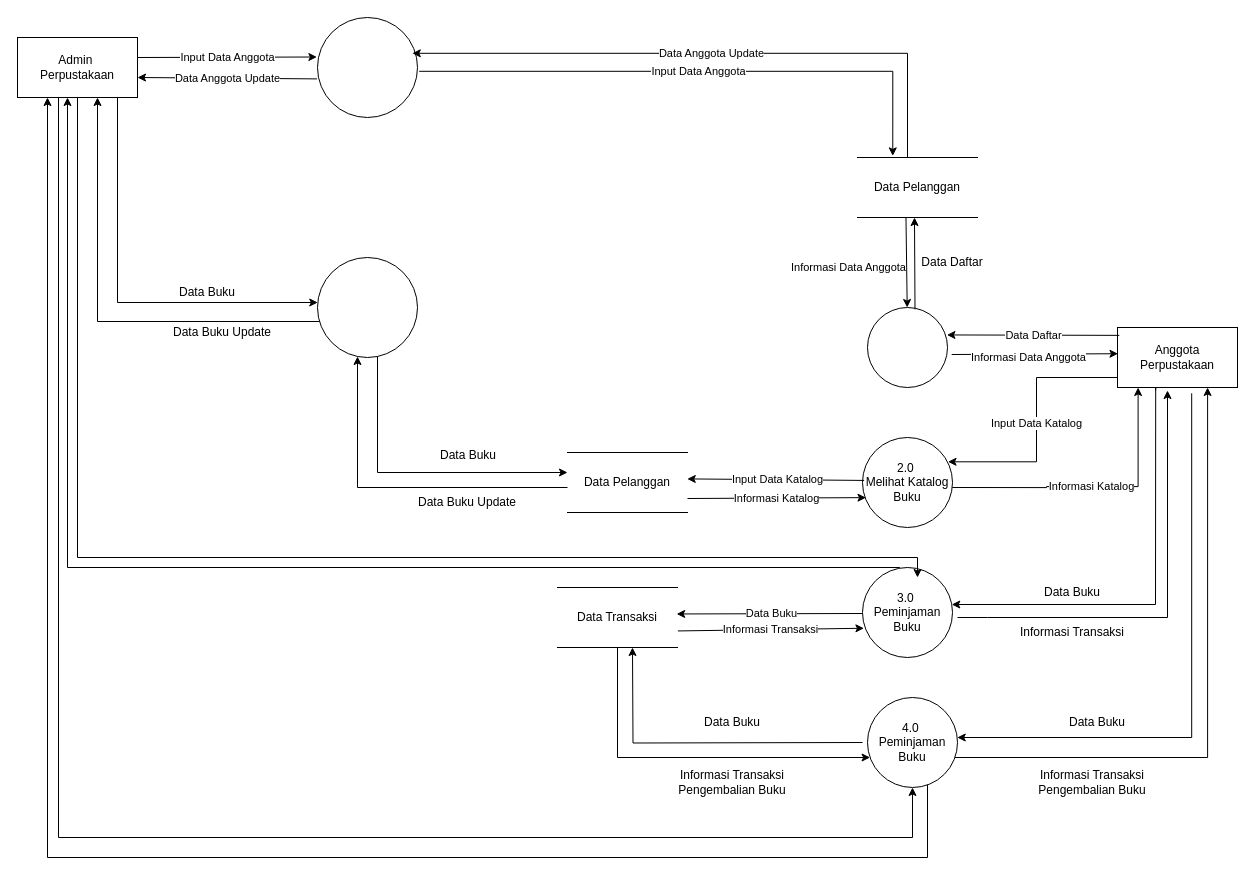
Image size: 1255x883. Some labels were removed from this diagram. The box of each missing label's shape, as (x1, y1, x2, y2) in pixels:
1.0 Daftar: (866, 306, 948, 388)
5.0 Mengelola Data Anggota: (316, 16, 418, 118)
6.0 Kelola Kkoleksi Buku: (316, 256, 418, 358)
